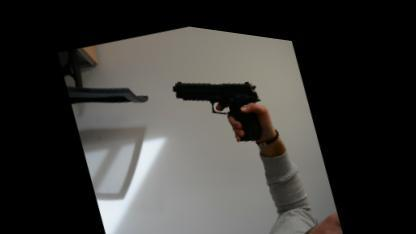pistol: (168, 50, 276, 156)
